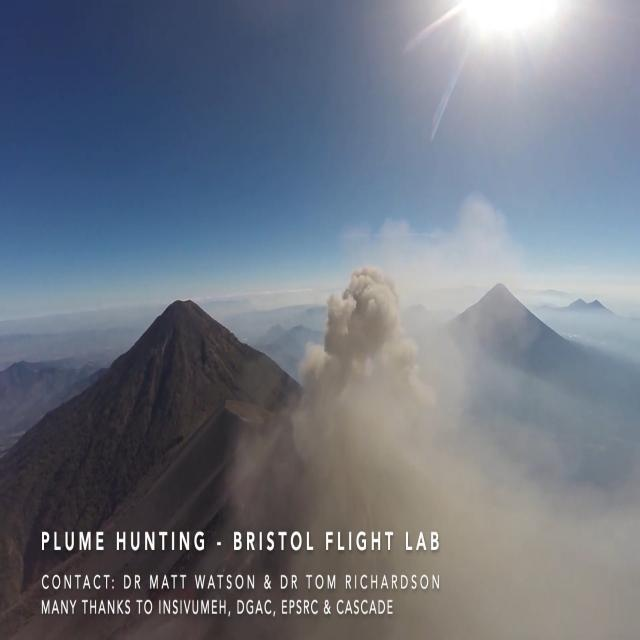Plume: (276, 258, 436, 492)
